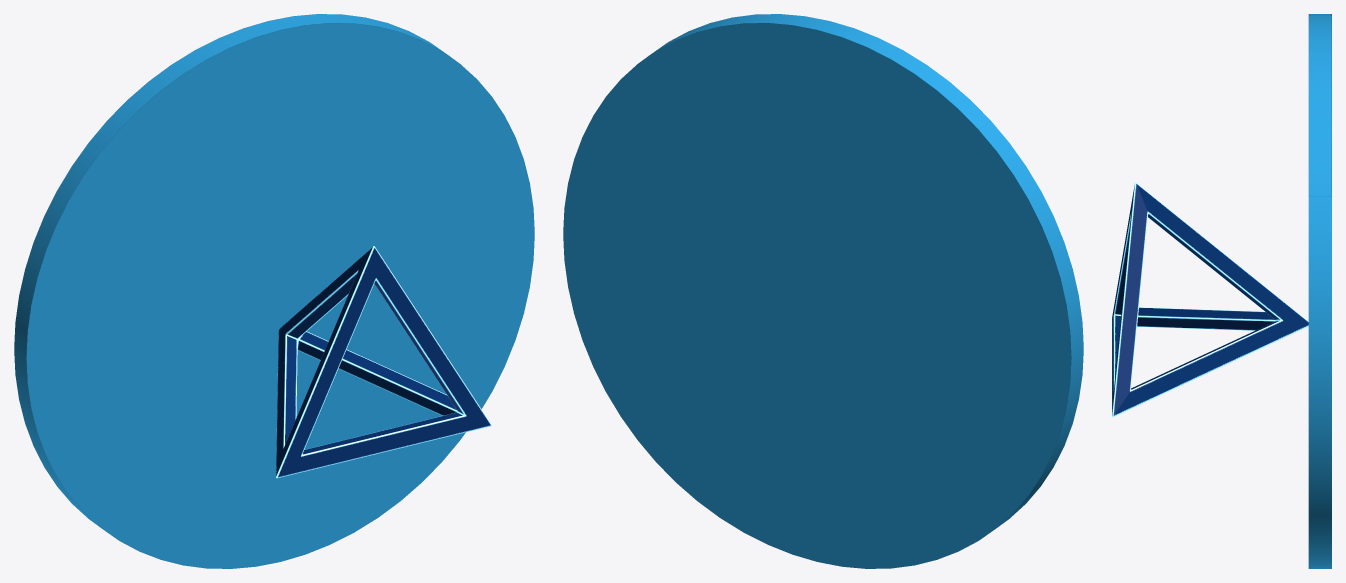
The model's file is untitd.glb.
The picture shows the model from 3 angles, left to right: view 1: azimuth 30°, elevation 25°; view 2: azimuth 150°, elevation 25°; view 3: azimuth 270°, elevation 25°; orthographic projection. The views are drawn at different scales.
Parts seen in each view (by area): view 1: Downloads Icon, Impossible Triangle; view 2: Downloads Icon; view 3: Impossible Triangle, Downloads Icon.
Part boxes in pixels (x1,y1,x2,y2): Downloads Icon: (14, 14, 534, 568); Impossible Triangle: (276, 246, 491, 478); Downloads Icon: (563, 14, 1083, 568); Impossible Triangle: (1112, 182, 1308, 416); Downloads Icon: (1308, 14, 1331, 568).
Bounding box in the file's own units: 18.67 × 18.67 × 7.39.
2 materials, 2 textured.
